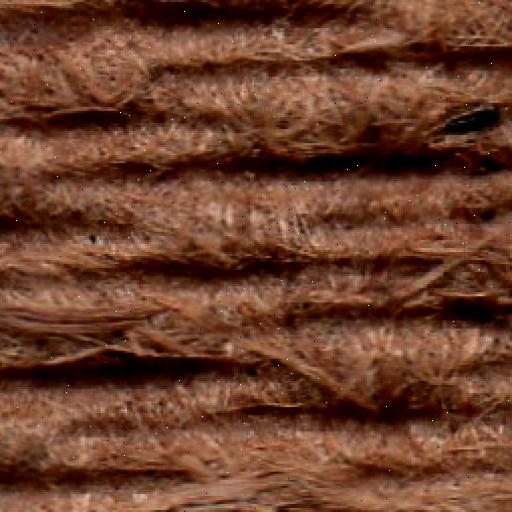egg: (445, 112, 494, 130)
